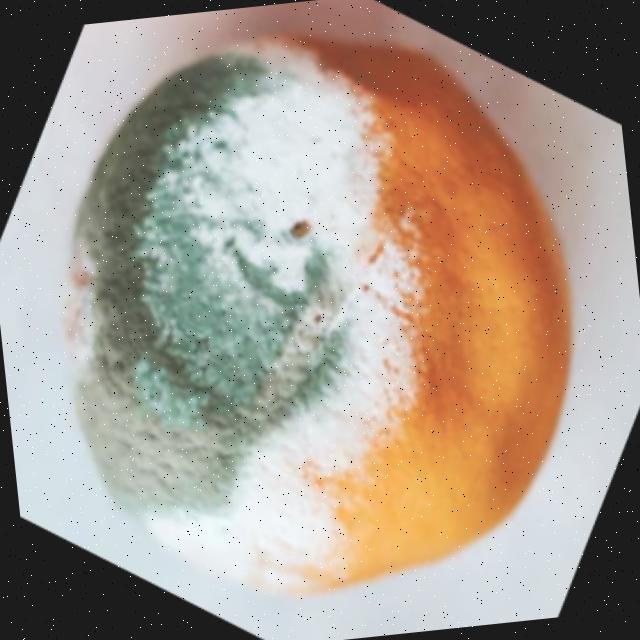Rotten: (35, 6, 598, 620)
